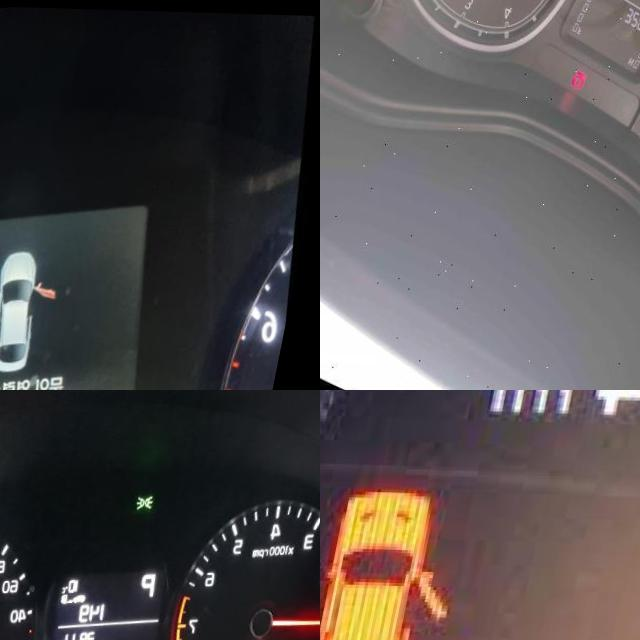SideLamp: (142, 493, 162, 509)
